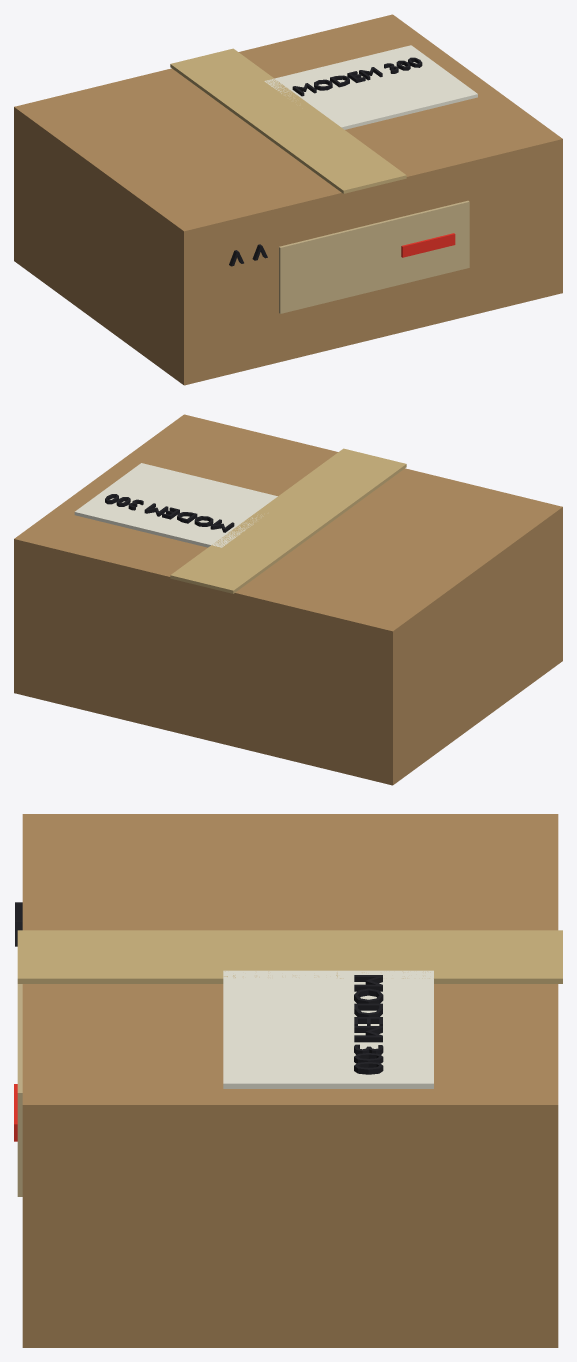
The model's file is kit.modem-box.glb.
3 views of the same model, one above another, from view 1: azimuth 30°, elevation 25°; view 2: azimuth 150°, elevation 25°; view 3: azimuth 270°, elevation 25° (orthographic). The views are drawn at different scales.
Visible parts, largest first — view 1: carton, picture, tape, label, label-text, picture-lights; view 2: carton, tape, label, label-text; view 3: carton, tape, label, label-text, picture.
Boxes of the visible parts, left/top/right/bottom form: carton: left=14, top=14, right=562, bottom=385; picture: left=279, top=200, right=469, bottom=313; tape: left=170, top=48, right=406, bottom=193; label: left=264, top=45, right=477, bottom=129; label-text: left=292, top=57, right=422, bottom=96; picture-lights: left=401, top=233, right=455, bottom=257; carton: left=14, top=414, right=562, bottom=785; tape: left=170, top=448, right=406, bottom=593; label: left=74, top=463, right=277, bottom=547; label-text: left=105, top=494, right=234, bottom=532; carton: left=22, top=814, right=558, bottom=1347; tape: left=17, top=930, right=562, bottom=983; label: left=223, top=970, right=433, bottom=1088; label-text: left=354, top=975, right=383, bottom=1074; picture: left=17, top=984, right=22, bottom=1196.
Size of the model in its own units: 0.36 by 0.146 by 0.287.
